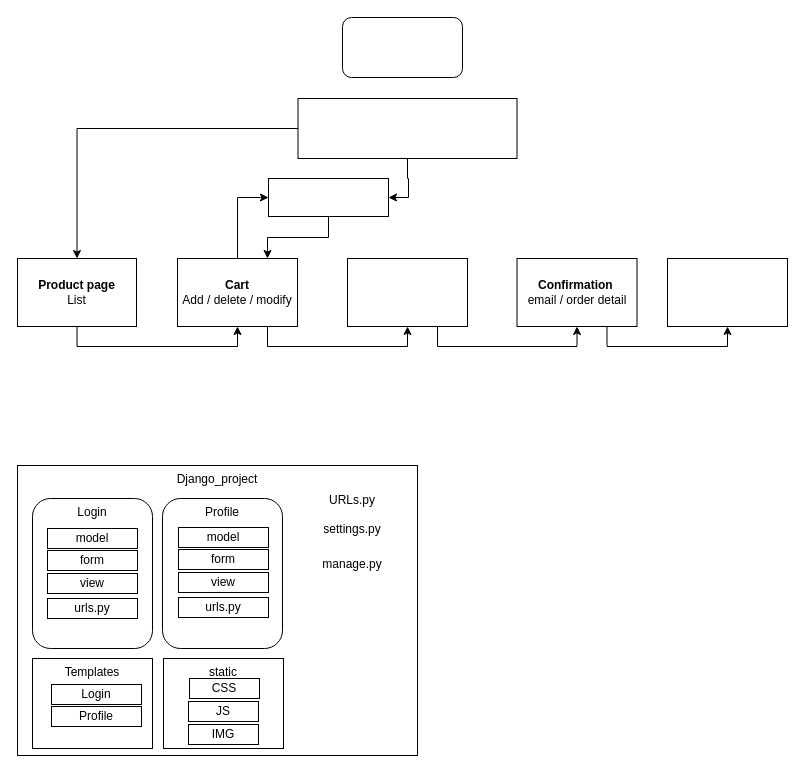
This 805x773 diagram has some shape labels left out. The centre of each missing label's shape, as x and y in pixels:
"Account Profile, Order History" goes at point 727,292.
"Candle Shop" goes at point 402,47.
"Checkout Add Address, Payment" goes at point 407,292.
"Index About US, Contact Us, FAQ Privacy, Terms, Review" goes at point 407,128.
"Login / signup Social login" goes at point 328,197.
